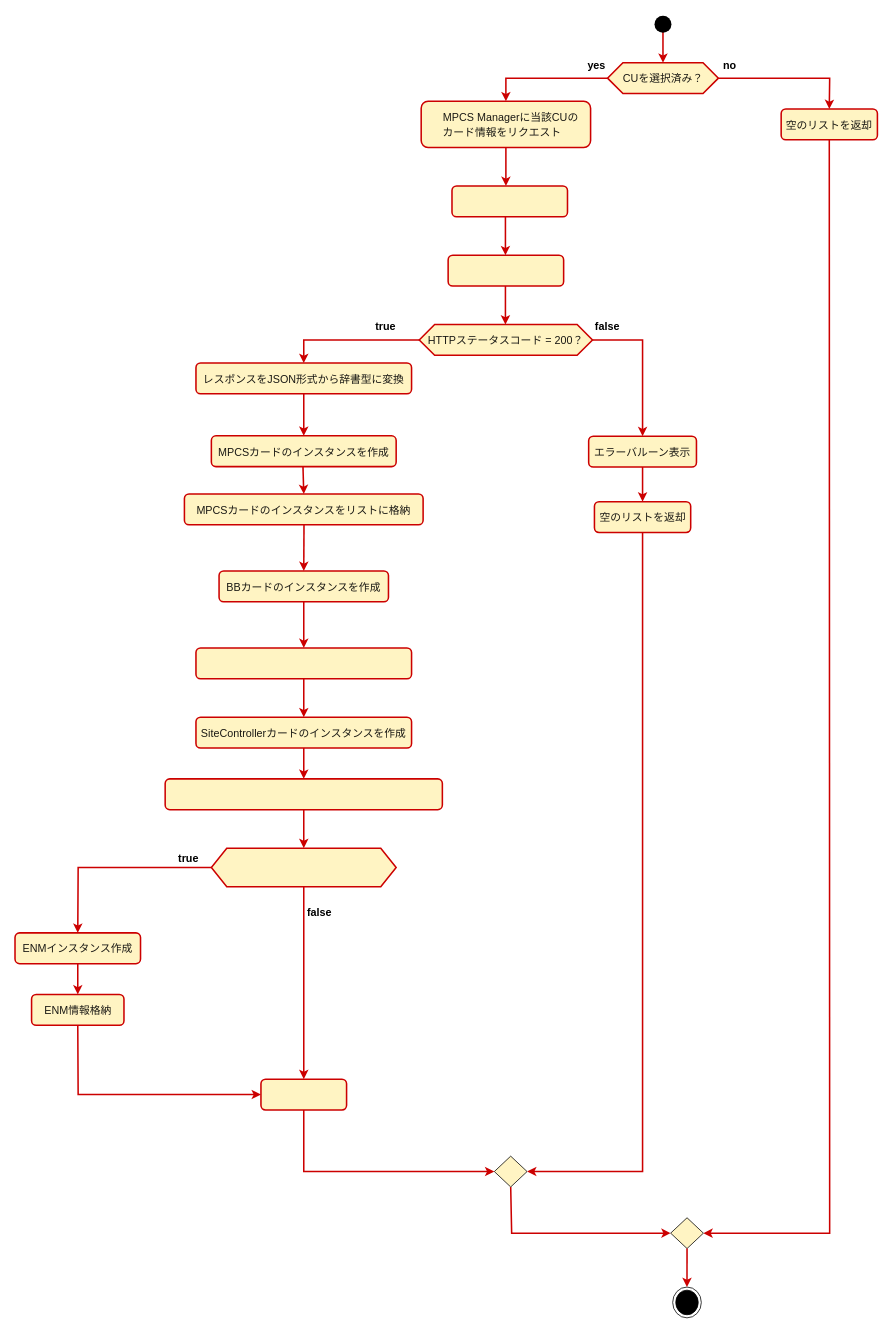
Image size: 895x1331. Some labels were removed from this diagram. The centre of each missing label's shape, as x and y in pixels:
"BBカードのインスタンスをリストに格納" belongs at (303,663).
"MPCS Manager が返す情報 の中の version='25a'" belongs at (303,867).
"SiteControllerカードのインスタンスをリストに格納" belongs at (303,794).
"リストを返却" belongs at (303,1094).
"レスポンスをログ出力" belongs at (505,270).
"レスポンスを取得" belongs at (509,201).
